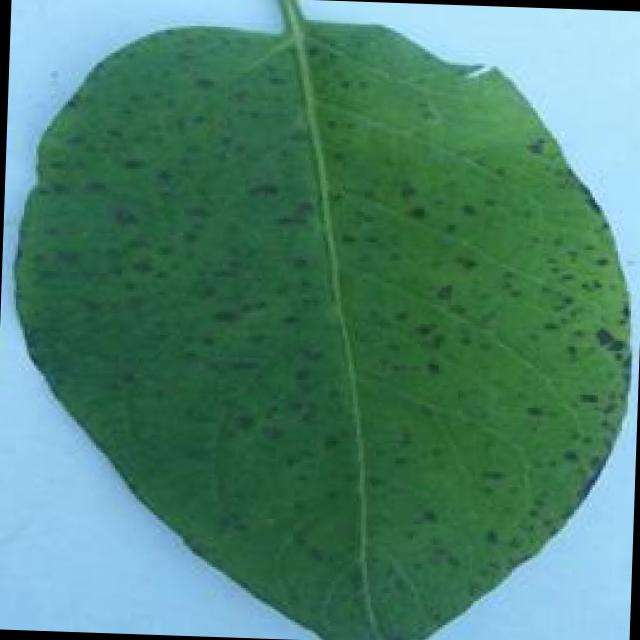Potato_Early_Blight: (7, 11, 640, 640)
